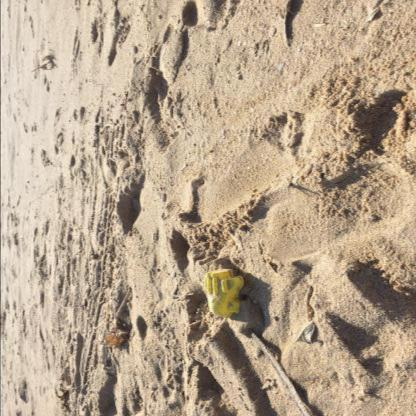Cigarette: (162, 194, 164, 202)
Other plastic: (204, 270, 244, 320)
